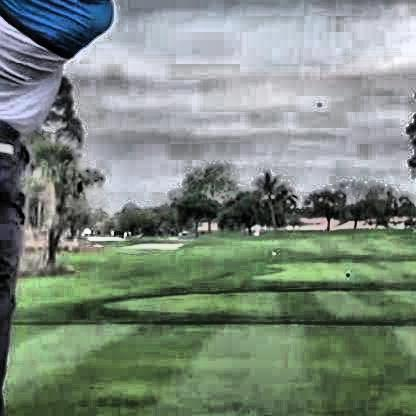golfball: (315, 99, 320, 105)
